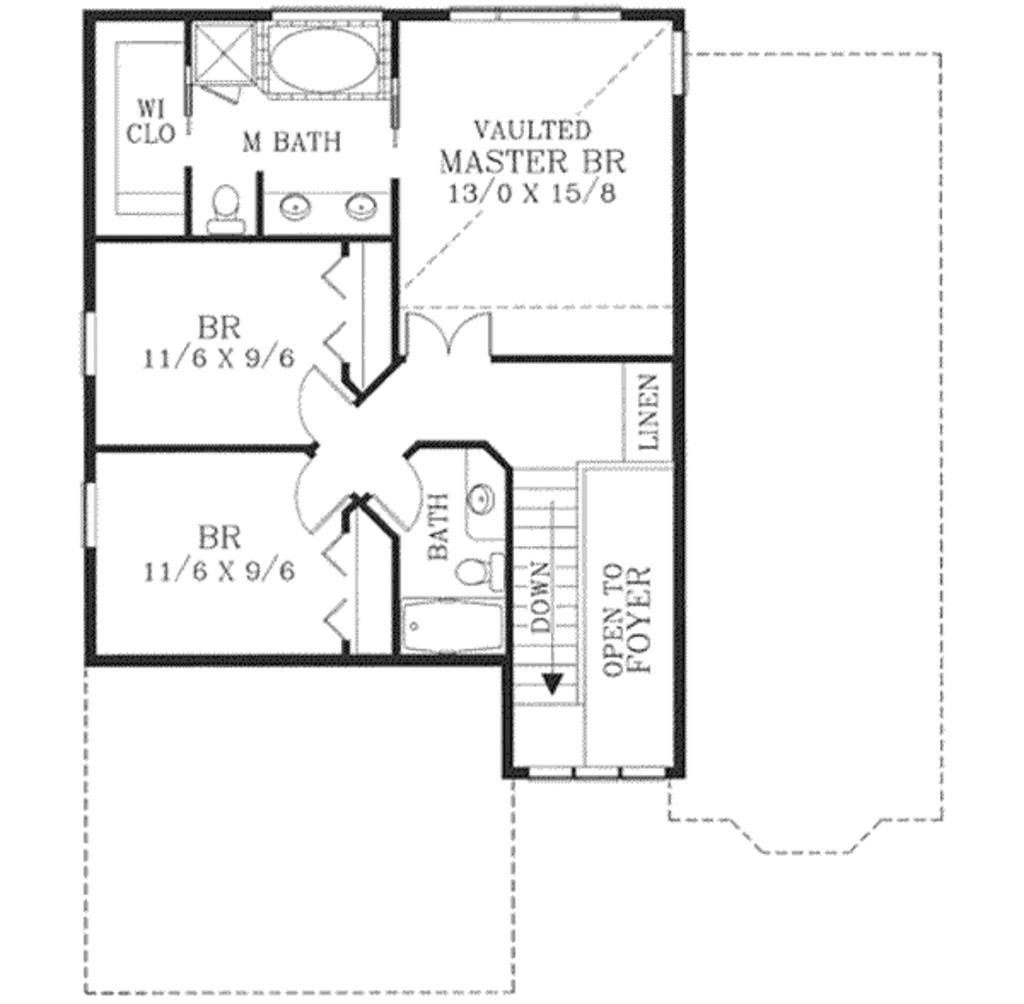door: (288, 356, 364, 439), (395, 304, 498, 358), (297, 448, 352, 546), (375, 452, 431, 536)
large_sink: (448, 544, 512, 601), (203, 177, 259, 240)
small_sink: (260, 185, 389, 236), (462, 453, 512, 544)
stairs: (511, 466, 608, 769)
tub: (397, 595, 506, 653)
window: (447, 2, 631, 27), (76, 475, 107, 561), (527, 766, 667, 781), (78, 308, 106, 377), (668, 29, 688, 95)
